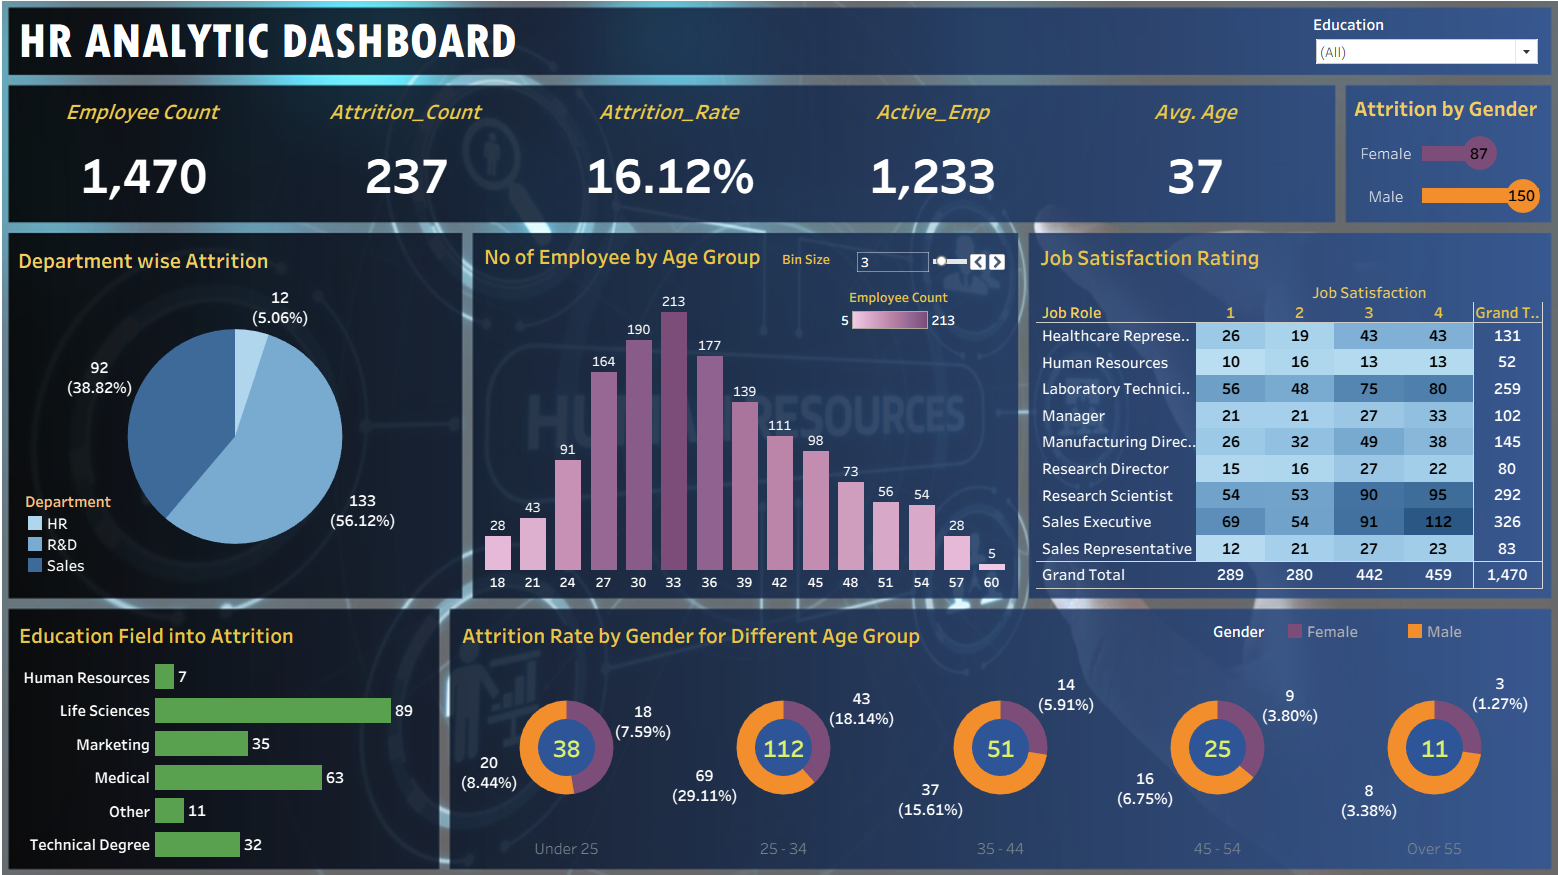

The page's visual inventory and layout, read from the dashboard file:
{"tool":"tableau","page":{"name":"HR Analytics Dashboard","canvas":[1580,900],"ordinal":0},"visuals":[{"type":"image","param":"Image/HR background.pptx.png","box":[8,8,1564,884]},{"type":"text","box":[25,23,1252,57]},{"type":"filter","title":"Department wise Attrition","param":"[federated.19qskzr0kpjakg18owfdo0u6nwe9].[none:Education:nk]","box":[1323,25,228,54]},{"type":"worksheet","title":"Attrition by Gender","mark":"Automatic","rows":["Gender"],"cols":["Calculation_1396948555481088","Calculation_1396948555481088"],"box":[1360,101,195,127]},{"type":"worksheet","title":"KPI","mark":"Automatic","box":[22,102,1316,125]},{"type":"worksheet","title":"No of Employee by Age Group","mark":"Automatic","rows":["Employee Count"],"cols":["Age (bin)"],"box":[490,249,530,354]},{"type":"worksheet","title":"Job Satisfaction Rating","mark":"Square","rows":["Job Role"],"cols":["Job Satisfaction"],"box":[1046,250,507,350]},{"type":"worksheet","title":"Department wise Attrition","mark":"Pie","box":[24,253,442,346]},{"type":"parameter","param":"[Parameters].[Parameter 1]","box":[792,260,226,32]},{"type":"legend","title":"No of Employee by Age Group","param":"[federated.19qskzr0kpjakg18owfdo0u6nwe9].[sum:Employee Count:qk]","box":[847,299,123,48]},{"type":"legend","title":"Department wise Attrition","param":"[federated.19qskzr0kpjakg18owfdo0u6nwe9].[none:Department:nk]","box":[35,502,93,89]},{"type":"worksheet","title":"Education Field into Attrition","mark":"Automatic","rows":["Education Field"],"cols":["Calculation_1396948555481088"],"box":[25,628,416,244]},{"type":"worksheet","title":"Attrition Rate by Gender for Different Age Group","mark":"Pie","rows":["Calculation_0725972657102849","Calculation_0725972657102849"],"cols":["CF_age band"],"box":[468,628,1085,243]},{"type":"legend","title":"Attrition Rate by Gender for Different Age Group","param":"[federated.19qskzr0kpjakg18owfdo0u6nwe9].[none:Gender:nk]","box":[1223,632,321,40]}]}

Visuals, with their boxes in screenshot pixels (x1, y1, x2, y2), scaled from the page's 1580x900 canvas onto the 1558x875 screenshot:
image: [x1=8, y1=8, x2=1550, y2=867]
text: [x1=25, y1=22, x2=1259, y2=78]
"Department wise Attrition" filter: [x1=1305, y1=24, x2=1529, y2=77]
"Attrition by Gender" worksheet: [x1=1341, y1=98, x2=1533, y2=222]
"KPI" worksheet: [x1=22, y1=99, x2=1319, y2=221]
"No of Employee by Age Group" worksheet: [x1=483, y1=242, x2=1006, y2=586]
"Job Satisfaction Rating" worksheet (Square marks): [x1=1031, y1=243, x2=1531, y2=583]
"Department wise Attrition" worksheet (Pie marks): [x1=24, y1=246, x2=460, y2=582]
parameter: [x1=781, y1=253, x2=1004, y2=284]
"No of Employee by Age Group" legend: [x1=835, y1=291, x2=956, y2=337]
"Department wise Attrition" legend: [x1=35, y1=488, x2=126, y2=575]
"Education Field into Attrition" worksheet: [x1=25, y1=611, x2=435, y2=848]
"Attrition Rate by Gender for Different Age Group" worksheet (Pie marks): [x1=461, y1=611, x2=1531, y2=847]
"Attrition Rate by Gender for Different Age Group" legend: [x1=1206, y1=614, x2=1523, y2=653]
